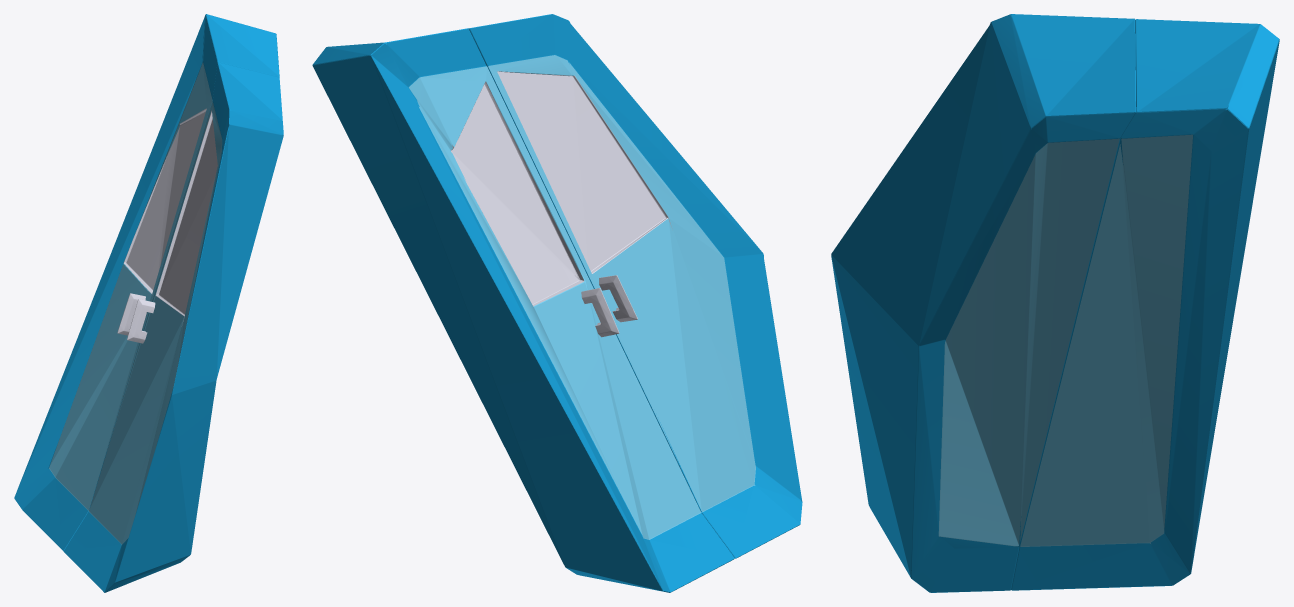
Rendered from World_Tree_Door_Asset.fbx.
3 renders of one model, left to right at view 1: azimuth 30°, elevation 25°; view 2: azimuth 150°, elevation 25°; view 3: azimuth 270°, elevation 25°, orthographic. The views are drawn at different scales.
Visible parts, largest first — view 1: Right_Door_World_Tree, Left_Door_World_Tree; view 2: Left_Door_World_Tree, Right_Door_World_Tree; view 3: Right_Door_World_Tree, Left_Door_World_Tree.
Part boxes in pixels (x1=…): Right_Door_World_Tree: x1=63, y1=62, x2=283, y2=592; Left_Door_World_Tree: x1=14, y1=14, x2=279, y2=550; Left_Door_World_Tree: x1=312, y1=28, x2=734, y2=592; Right_Door_World_Tree: x1=468, y1=14, x2=802, y2=558; Right_Door_World_Tree: x1=831, y1=14, x2=1136, y2=592; Left_Door_World_Tree: x1=1011, y1=19, x2=1279, y2=590.
Size of the model in its own units: 977 by 1419 by 863.
